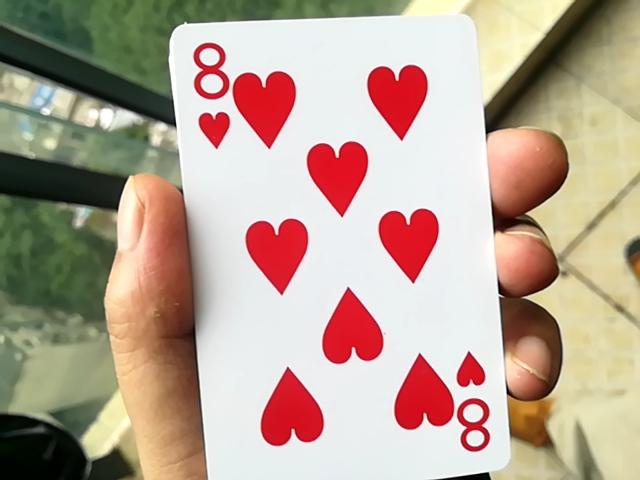hx 8: (146, 18, 505, 478)
